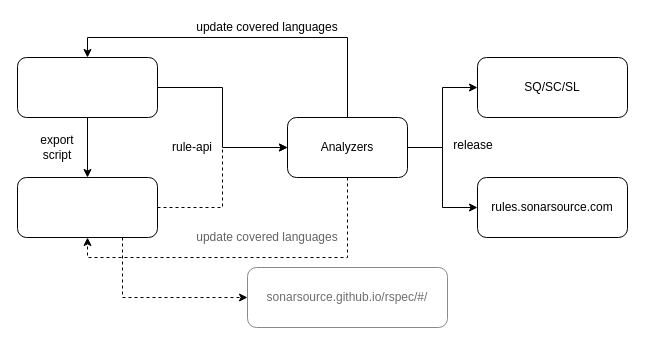
Image size: 645x345. Some labels were removed from this diagram. Here are the shapes that lost their labels. From the top down, the centre of each, then its label:
(x=87, y=87): Jira RSPEC
(x=87, y=207): GitHub RSPEC repo
